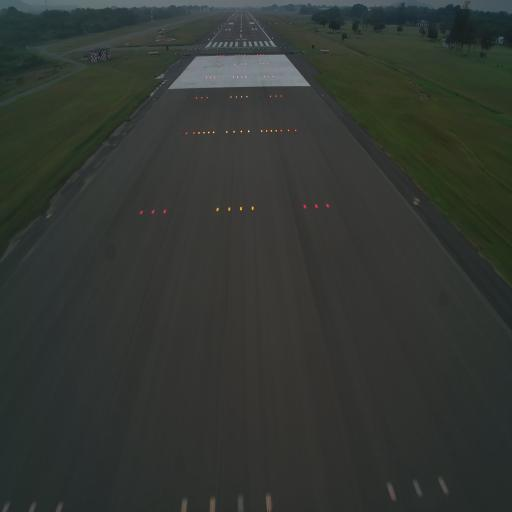off: (234, 491, 246, 512), (410, 194, 420, 208), (45, 208, 54, 223)
on: (258, 491, 274, 512), (0, 492, 13, 512), (206, 492, 218, 512), (178, 496, 190, 512), (301, 202, 308, 211), (239, 204, 244, 214), (324, 202, 330, 210), (139, 208, 144, 217), (228, 204, 232, 214), (251, 204, 255, 214), (314, 203, 319, 211), (162, 208, 167, 215), (215, 206, 220, 212), (151, 208, 155, 215)
